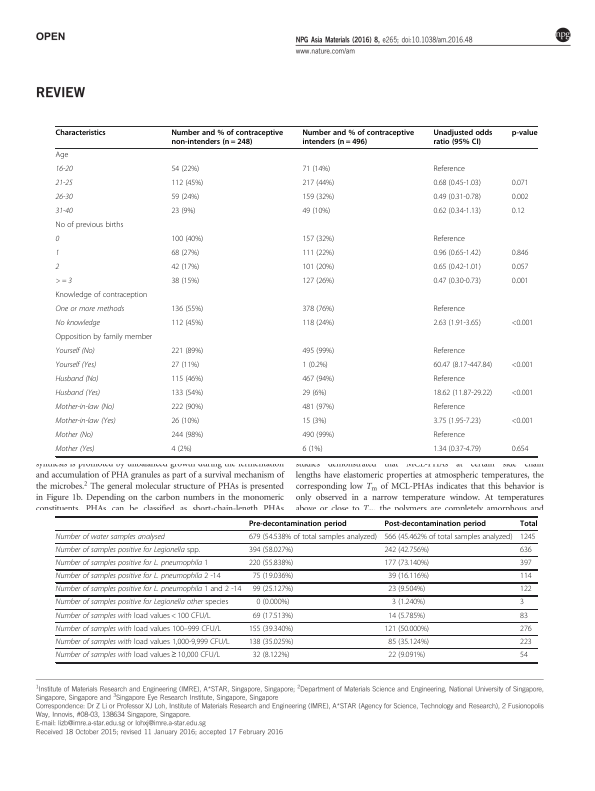borderless: (54, 125, 537, 456), (55, 515, 537, 662)
cell: (170, 129, 284, 147), (301, 129, 415, 147), (55, 637, 231, 647), (55, 585, 242, 594), (55, 624, 222, 634), (55, 571, 221, 581), (55, 650, 221, 660), (55, 598, 229, 607), (55, 558, 209, 568), (55, 545, 201, 555), (55, 611, 211, 620), (248, 532, 378, 542), (383, 532, 513, 542), (55, 532, 166, 542), (432, 129, 493, 147), (55, 333, 153, 343), (383, 519, 487, 528), (55, 291, 148, 301), (248, 519, 347, 528), (55, 221, 124, 231), (55, 305, 125, 314), (432, 361, 493, 371), (432, 389, 493, 399), (55, 417, 117, 426), (55, 403, 115, 412), (432, 179, 482, 189), (432, 193, 482, 203), (432, 207, 482, 217), (432, 249, 482, 259), (432, 263, 482, 273), (432, 277, 482, 287), (432, 319, 482, 329), (432, 417, 482, 427), (432, 445, 482, 455), (383, 545, 430, 555), (383, 558, 430, 568), (383, 624, 430, 634), (55, 129, 107, 138), (55, 319, 101, 329), (248, 545, 294, 555), (248, 558, 294, 568), (248, 624, 294, 634), (248, 637, 294, 647), (387, 571, 430, 581), (387, 637, 430, 647), (252, 571, 294, 581), (55, 389, 101, 398), (55, 375, 99, 384), (387, 650, 426, 660), (252, 650, 290, 660), (55, 361, 97, 370), (252, 585, 294, 594), (252, 611, 294, 620), (55, 347, 96, 356), (55, 445, 95, 454), (55, 431, 94, 440), (387, 585, 426, 594), (387, 611, 426, 620), (432, 165, 466, 175), (170, 179, 204, 189), (301, 179, 335, 189), (301, 193, 335, 203), (170, 235, 204, 245), (301, 235, 335, 245), (432, 235, 466, 245), (301, 249, 335, 259), (301, 263, 335, 273), (301, 277, 335, 287), (170, 305, 204, 315), (301, 305, 335, 315), (432, 305, 466, 315), (170, 319, 204, 329), (301, 319, 335, 329), (170, 347, 204, 357), (301, 347, 335, 357), (432, 347, 466, 357), (170, 375, 204, 385), (301, 375, 335, 385), (432, 375, 466, 385), (170, 389, 204, 399), (170, 403, 204, 413), (301, 403, 335, 413), (432, 403, 466, 413), (170, 431, 204, 441), (301, 431, 335, 441), (432, 431, 466, 441), (255, 598, 290, 607), (391, 598, 426, 607), (170, 165, 200, 175), (301, 165, 331, 175), (170, 193, 200, 203), (301, 207, 331, 217), (170, 249, 200, 259), (170, 263, 200, 273), (170, 277, 200, 287), (170, 361, 200, 371), (170, 417, 200, 427), (301, 361, 329, 371), (170, 207, 196, 217), (301, 389, 327, 399), (301, 417, 327, 427), (511, 129, 538, 138), (511, 319, 534, 329), (511, 361, 534, 371), (511, 389, 534, 399), (511, 417, 534, 427), (170, 445, 192, 455), (301, 445, 323, 455), (511, 179, 529, 189), (511, 193, 529, 203), (511, 249, 529, 259), (511, 263, 529, 273), (511, 277, 529, 287), (511, 445, 529, 455), (519, 519, 538, 528), (519, 532, 536, 542), (55, 165, 73, 174), (55, 179, 73, 188), (55, 193, 73, 202), (55, 207, 73, 216), (55, 277, 73, 286), (511, 207, 526, 217), (55, 151, 69, 161), (519, 545, 533, 555), (519, 558, 533, 568), (519, 571, 533, 581), (519, 624, 533, 634), (519, 637, 533, 647), (519, 585, 533, 594), (519, 650, 529, 660), (519, 611, 529, 620), (519, 598, 525, 607), (55, 235, 60, 244), (55, 249, 60, 258), (55, 263, 60, 272)
